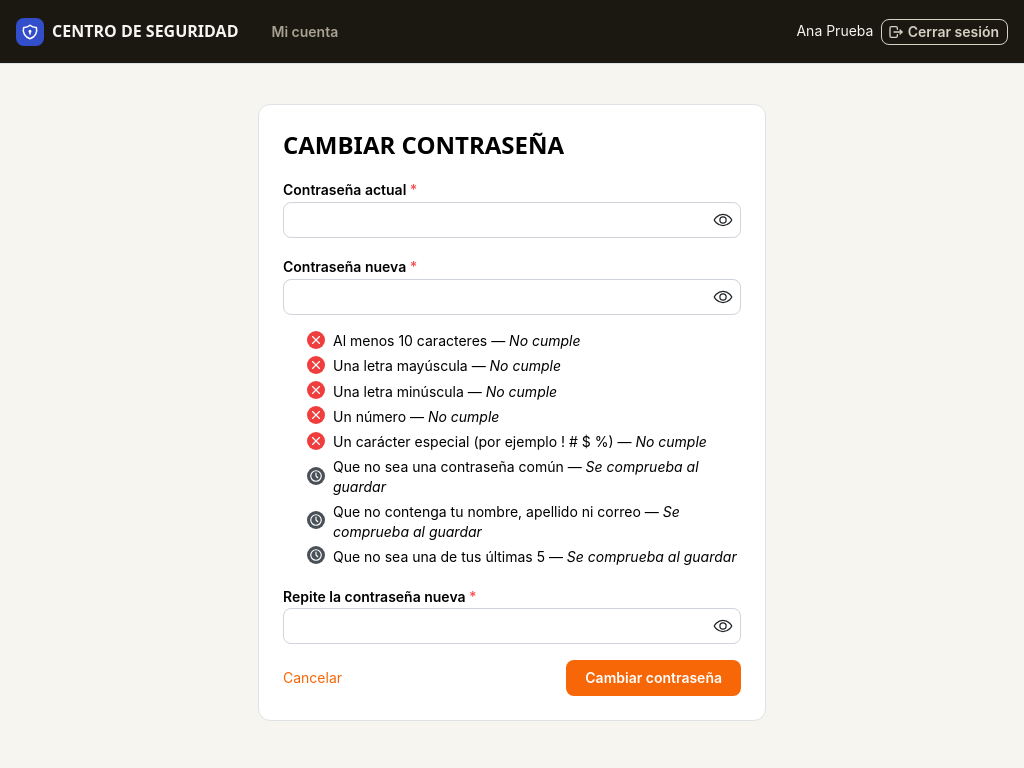
Scenario: FRONT-10 cambio de contraseña › 422 marca las reglas rechazadas por el servidor
Type "Actual-2026!" into the password field labelled "Contraseña actual *" at (512, 220), box [284,203,740,237]
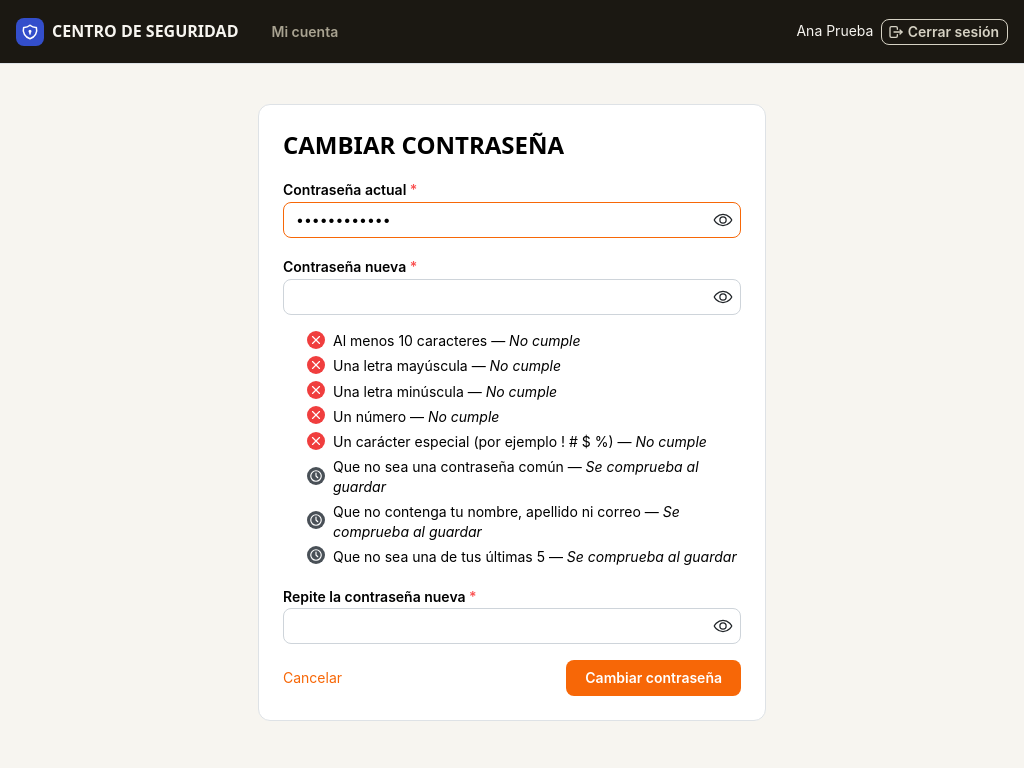
Type "Nueva-Segura-2026!" into the password field labelled "Contraseña nueva *" at (512, 297), box [284,280,740,314]
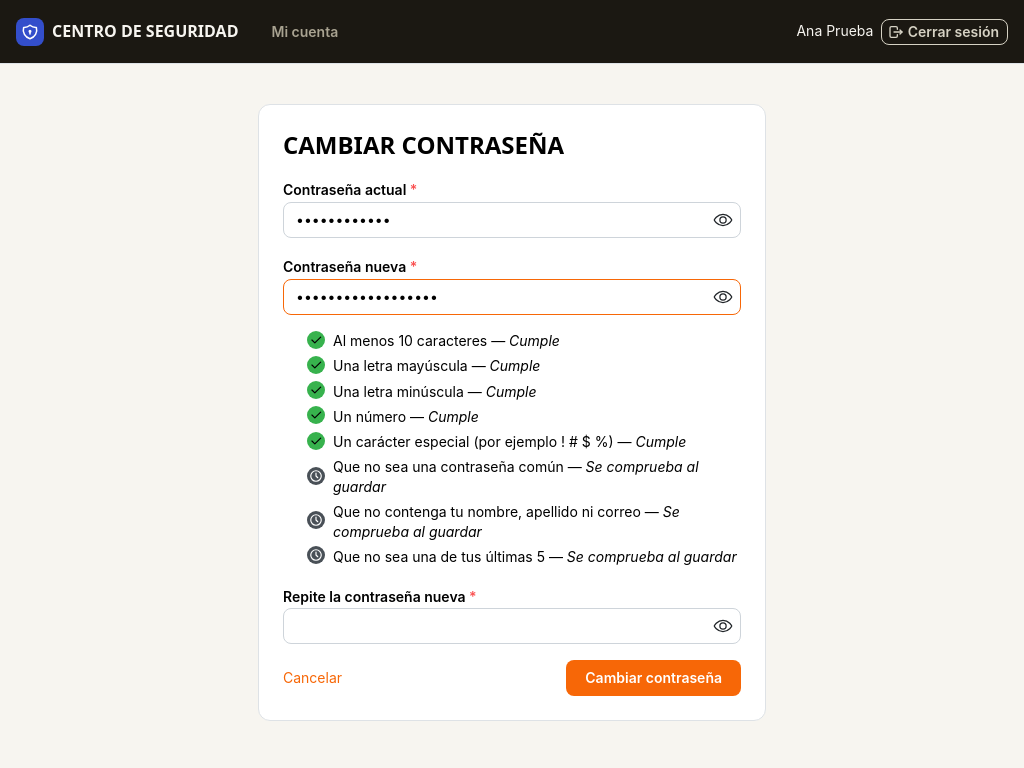
Type "Nueva-Segura-2026!" into the password field labelled "Repite la contraseña nueva *" at (512, 626), box [284,609,740,643]
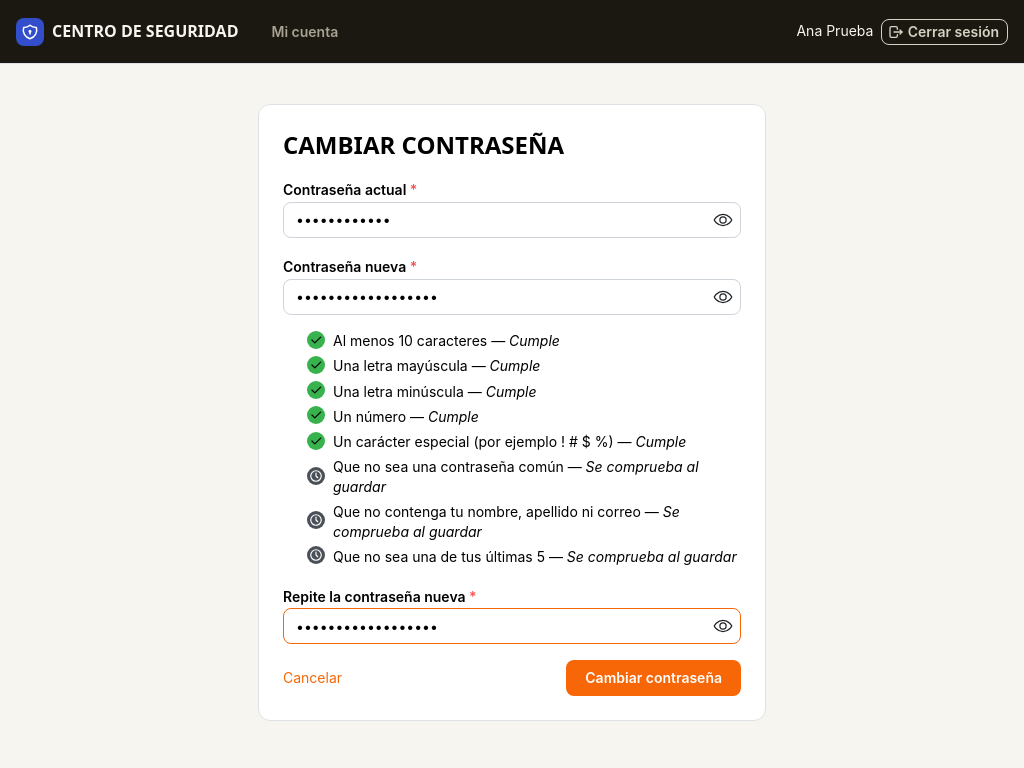
Click the button "Cambiar contraseña" at (654, 678), box [566,660,741,696]
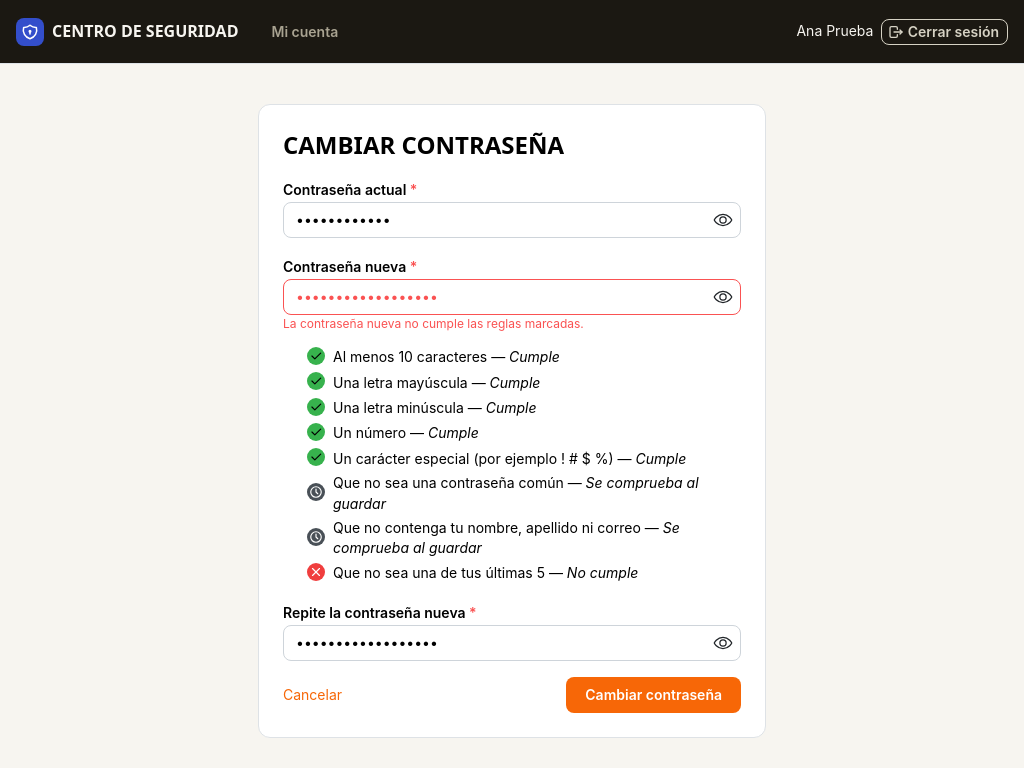
Expected: the text "La contraseña nueva no cumple las reglas marcadas." is shown, [283,316,584,331]
Expected: the text "Que no sea una de tus últimas 5 — No cumple" is shown, [333,563,638,584]
